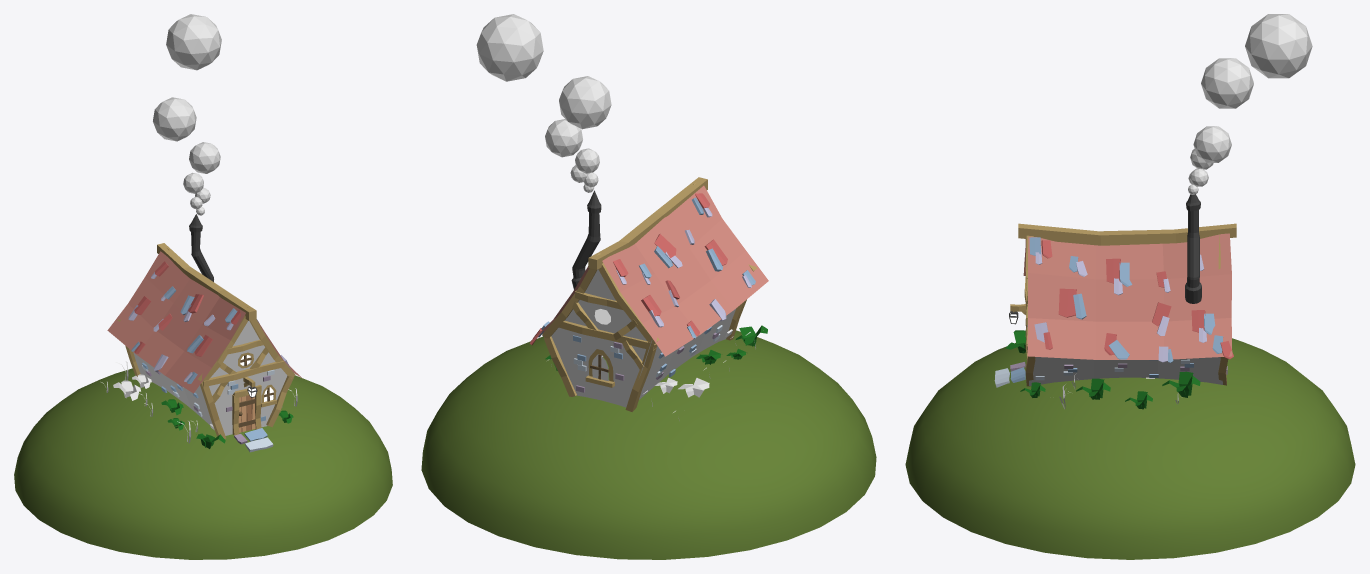
File: cottage.glb
3 views of the same model, side by side, from view 1: azimuth 30°, elevation 25°; view 2: azimuth 150°, elevation 25°; view 3: azimuth 270°, elevation 25° (orthographic). The views are drawn at different scales.
Visible parts, largest first — view 1: Sphere, Plane.003, Plane, Icosphere.007, Icosphere.006, Cube.024, Plane.004, Icosphere.005, Cylinder, Cube.002, Cube.003, Cube.001; view 2: Sphere, Plane.003, Plane.005, Icosphere.007, Icosphere.006, Plane.004, Cube.024, Cylinder, Icosphere.005, Cube.014, Cube.016, Cube.013 (+1 smaller); view 3: Sphere, Plane.001, Plane.002, Icosphere.007, Cube.024, Icosphere.006, Cylinder, Icosphere.005.
Boxes of the visible parts, x1,y1,x2,y2 form: Sphere: [14, 368, 392, 559]; Plane.003: [107, 251, 245, 393]; Plane: [209, 321, 287, 435]; Icosphere.007: [166, 14, 221, 70]; Icosphere.006: [153, 97, 196, 141]; Cube.024: [157, 243, 256, 320]; Plane.004: [133, 352, 212, 424]; Icosphere.005: [189, 142, 220, 173]; Cylinder: [189, 214, 213, 281]; Cube.002: [203, 361, 284, 387]; Cube.003: [247, 307, 295, 379]; Cube.001: [200, 382, 225, 438]; Sphere: [421, 330, 876, 559]; Plane.003: [602, 185, 768, 356]; Plane.005: [551, 269, 646, 407]; Icosphere.007: [476, 14, 543, 81]; Icosphere.006: [559, 76, 611, 129]; Plane.004: [639, 308, 736, 399]; Cube.024: [588, 177, 707, 269]; Cylinder: [571, 190, 601, 289]; Icosphere.005: [545, 119, 582, 157]; Cube.014: [558, 320, 656, 350]; Cube.016: [598, 263, 659, 346]; Cube.013: [625, 341, 657, 411]; Sphere: [905, 338, 1355, 559]; Plane.001: [1027, 233, 1232, 359]; Plane.002: [1029, 357, 1222, 385]; Icosphere.007: [1245, 14, 1312, 78]; Cube.024: [1018, 223, 1236, 245]; Icosphere.006: [1201, 58, 1253, 108]; Cylinder: [1185, 194, 1201, 303]; Icosphere.005: [1193, 126, 1231, 162].
Bounding box in the file's own units: 14.49 × 17.05 × 14.49.
